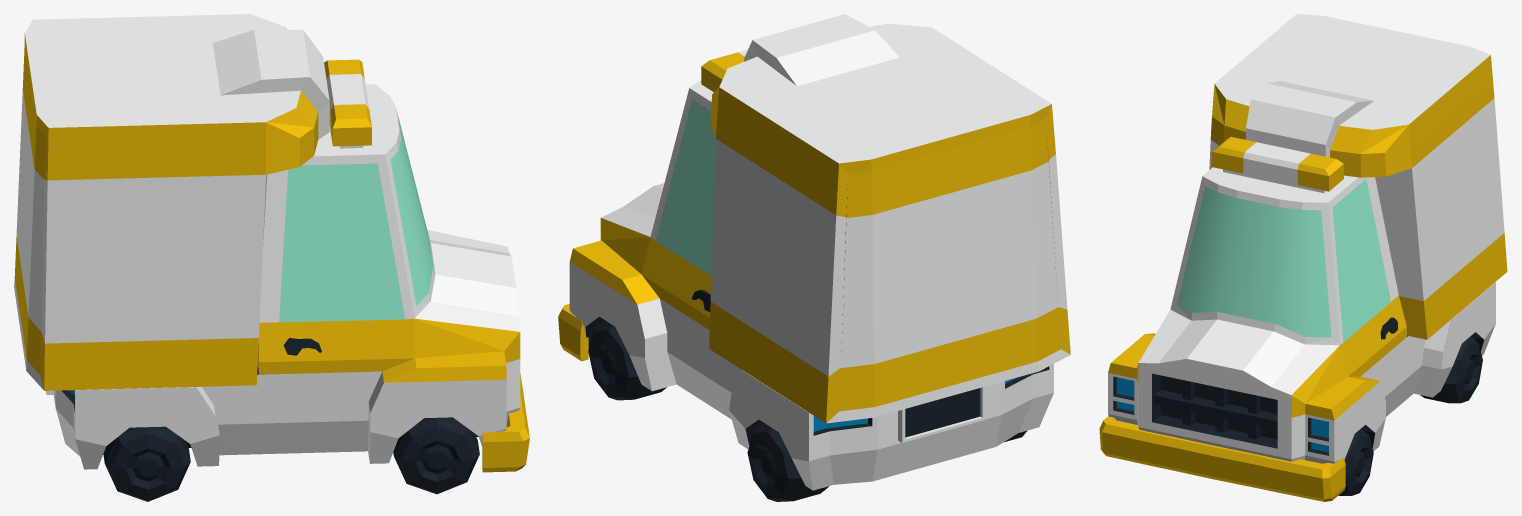
The model's file is ToyObject_094.fbx.
3 renders of one model, left to right at view 1: azimuth 30°, elevation 25°; view 2: azimuth 150°, elevation 25°; view 3: azimuth 270°, elevation 25°, orthographic. The views are drawn at different scales.
Parts seen in each view (by area): view 1: 1.017; view 2: 1.017; view 3: 1.017.
Part boxes in pixels (x1,y1,x2,y2): 1.017: [14, 14, 529, 501]; 1.017: [558, 14, 1070, 501]; 1.017: [1099, 14, 1507, 501].
Size of the model in its own units: 0.179 by 0.1346 by 0.1525.
Materials: 2 (1 with a texture image).
